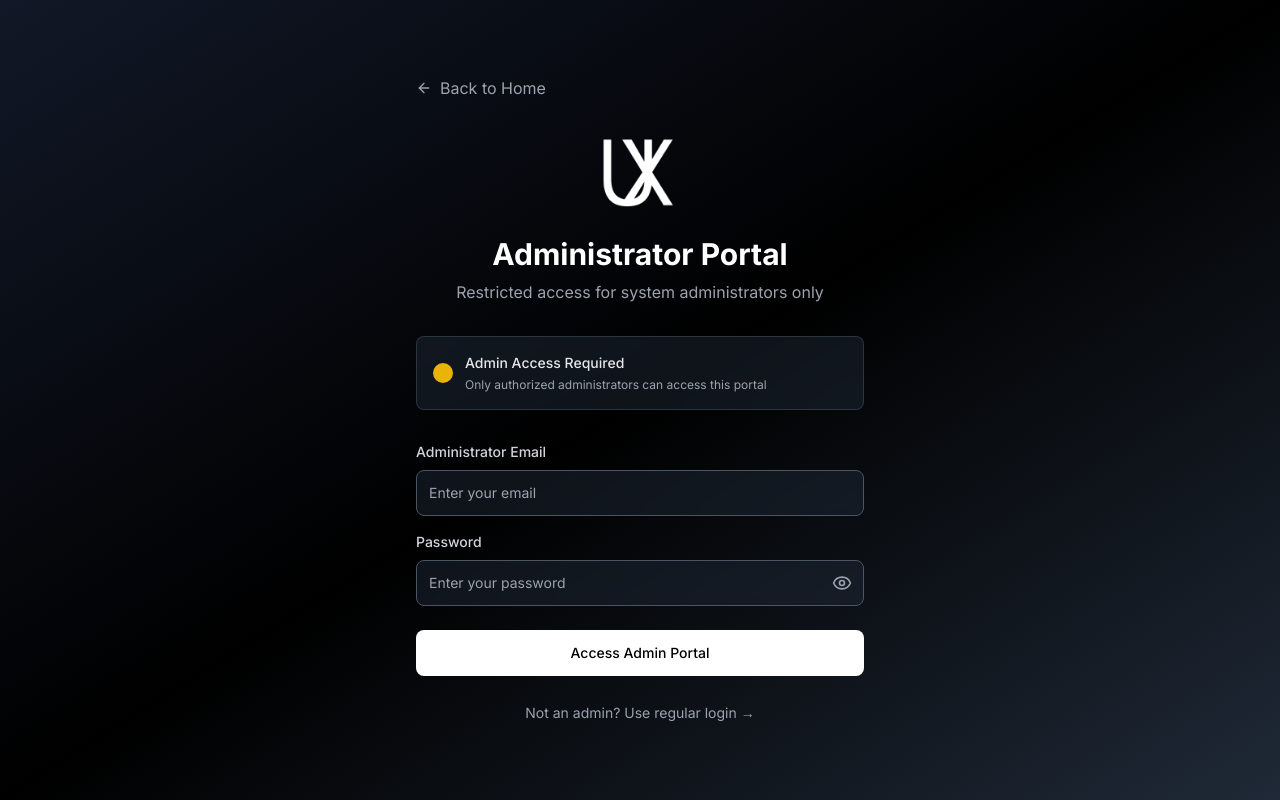
Test case: AdminLoginPage › Authentication Flow › rejects non-admin users
Type "user@uexam.com" into the field labelled "Administrator Email" at coordinates (640, 493), box [416, 470, 864, 516]
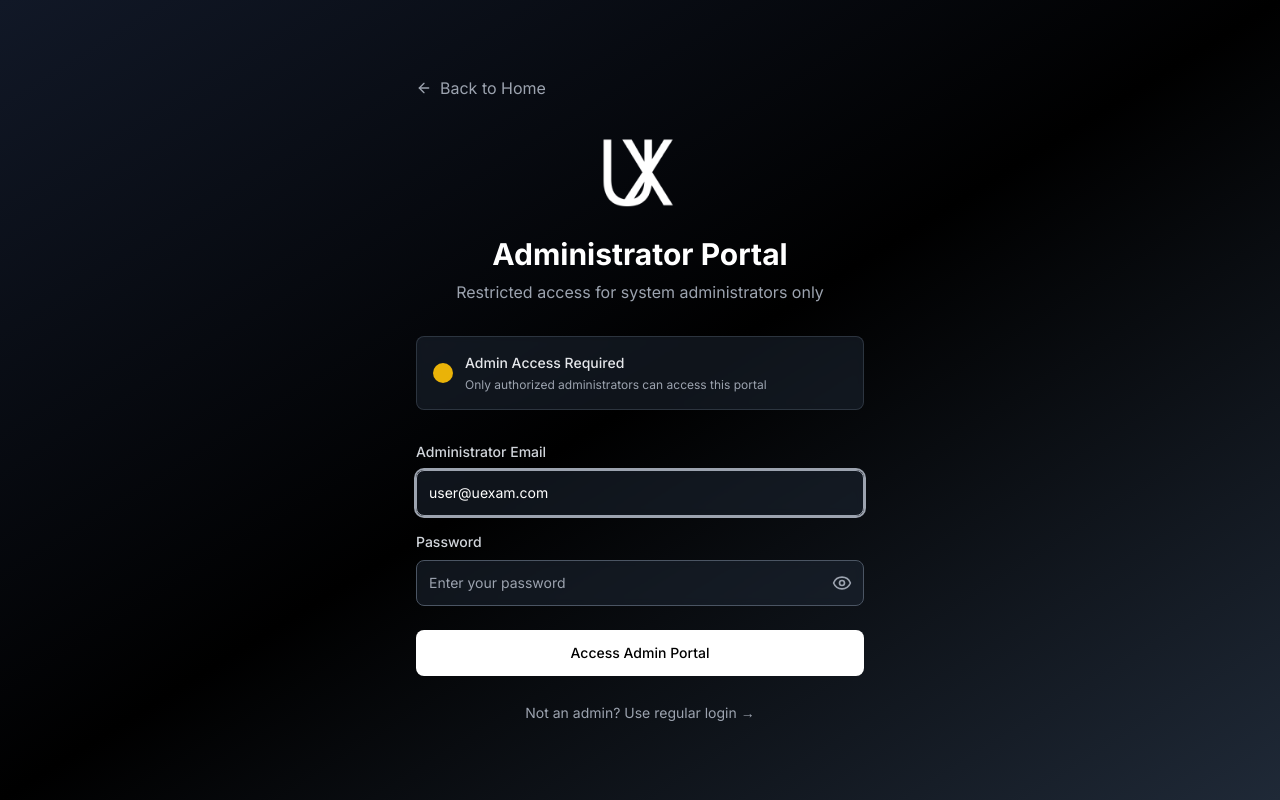
Type "user123" into the password field labelled "Password" at coordinates (640, 583), box [416, 560, 864, 606]
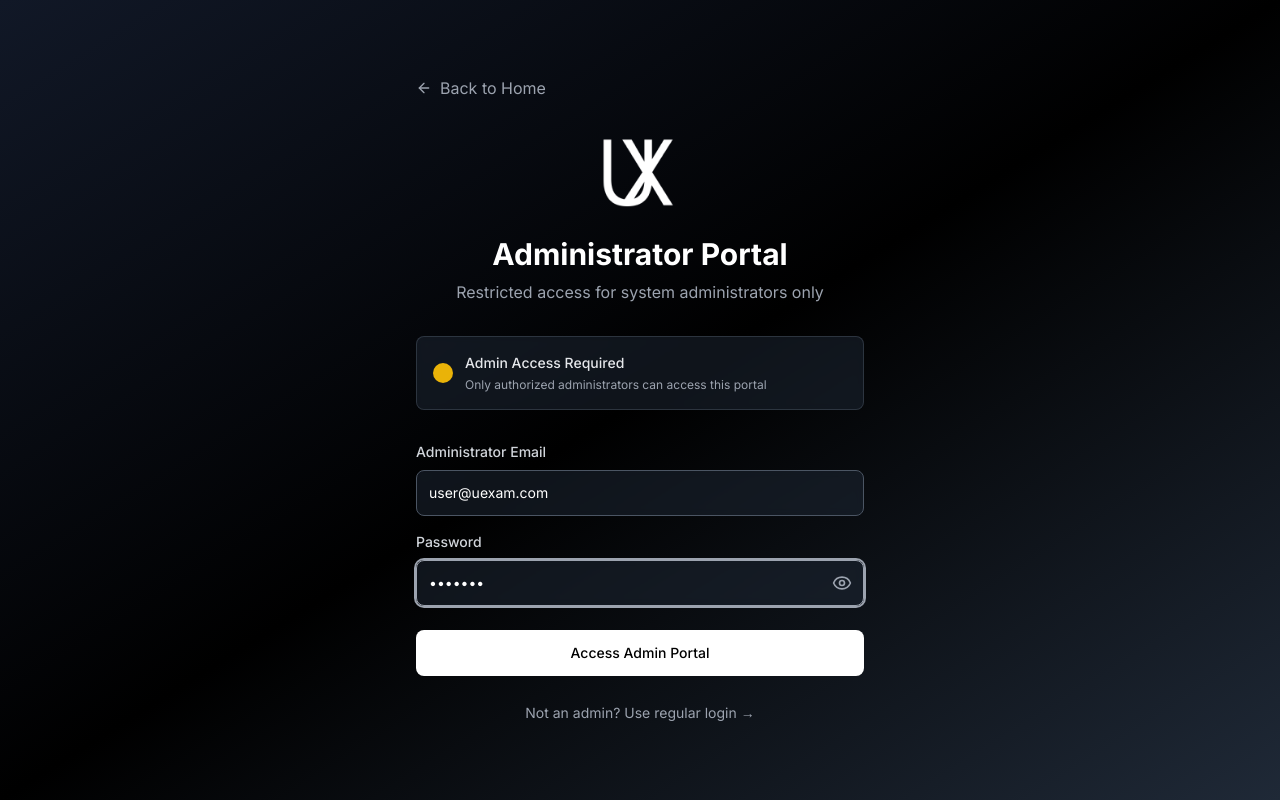
Click the button "Access Admin Portal" at coordinates (640, 653), box [416, 630, 864, 676]
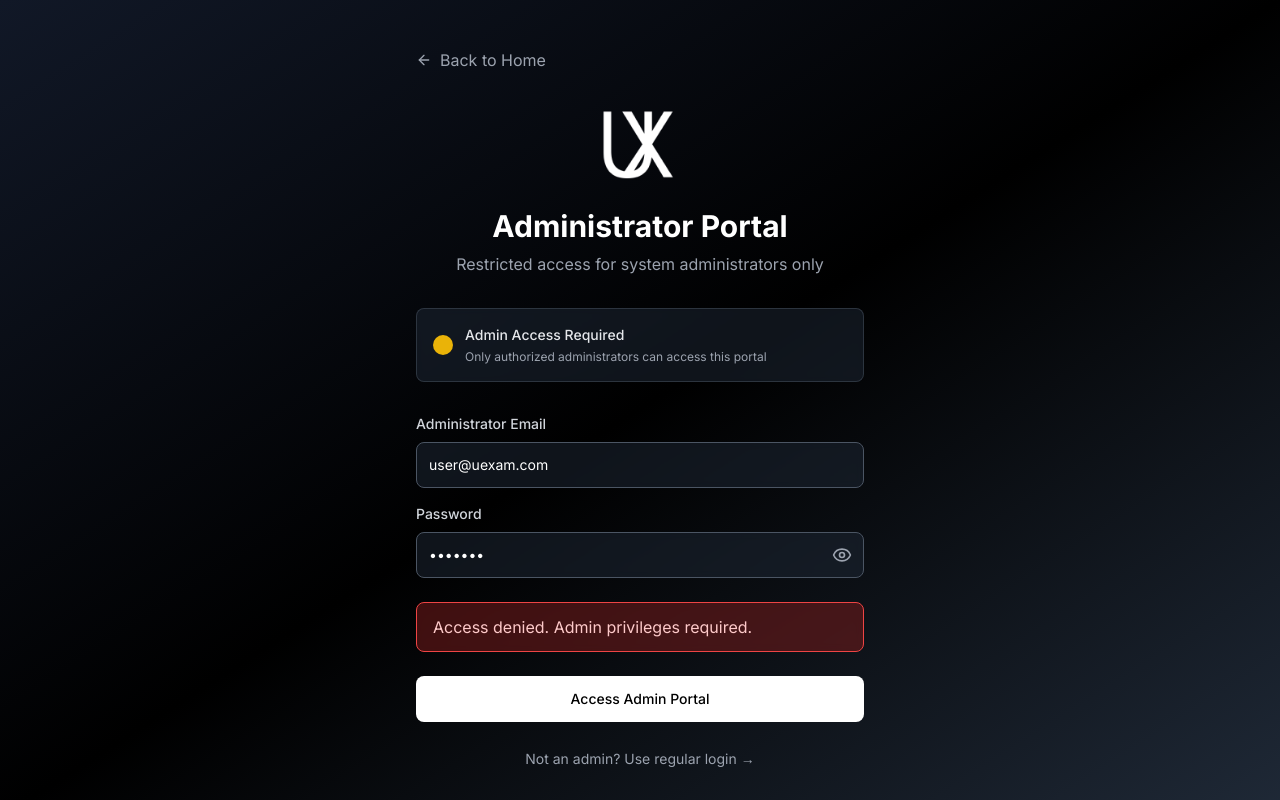
Now the text "Access denied. Admin privileges required." is shown, box [416, 602, 864, 652]
